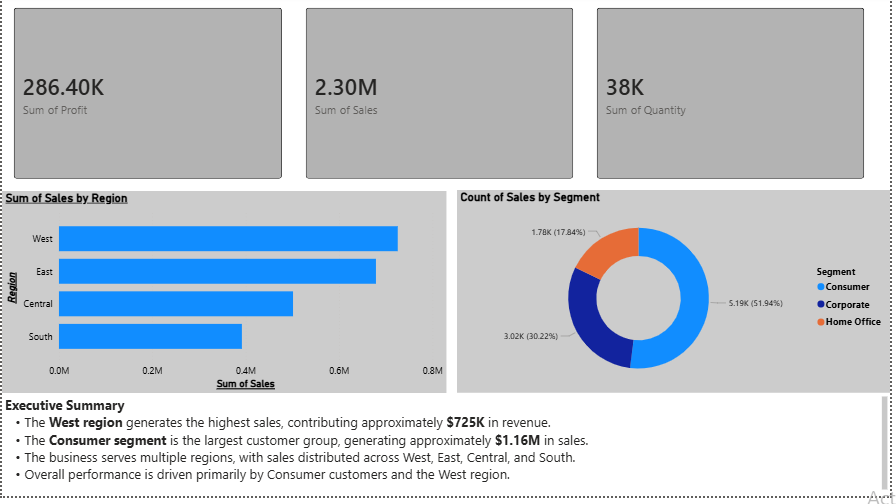

The page's visual inventory and layout, read from the dashboard file:
{"tool":"powerbi","page":{"name":"Page 1","canvas":[1280,720],"ordinal":0},"visuals":[{"type":"cardVisual","fields":{"Data":["Sum(SampleSuperstore.Sales)"]},"box":[419.9,0,419.9,280.5],"z":0},{"type":"cardVisual","fields":{"Data":["Sum(SampleSuperstore.Profit)"]},"box":[0,0,420.5,280.8],"z":1},{"type":"cardVisual","fields":{"Data":["Sum(SampleSuperstore.Quantity)"]},"box":[839.9,0,419.9,280.5],"z":2},{"type":"clusteredBarChart","fields":{"Category":["SampleSuperstore.Region"],"Y":["Sum(SampleSuperstore.Sales)"]},"box":[0,280.5,640,290.6],"z":3},{"type":"donutChart","fields":{"Y":["CountNonNull(SampleSuperstore.Sales)"],"Category":["SampleSuperstore.Segment"]},"box":[655.2,279.4,625,292.3],"z":4},{"type":"textbox","box":[0,571.7,1280.2,148.3],"z":5}]}

Visuals, with their boxes in screenshot pixels (x1, y1, x2, y2), scaled from the page's 1280x720 canvas onto the 896x504 screenshot:
cardVisual - Sum(SampleSuperstore.Sales): 294:0:588:196
cardVisual - Sum(SampleSuperstore.Profit): 0:0:294:197
cardVisual - Sum(SampleSuperstore.Quantity): 588:0:882:196
clusteredBarChart - SampleSuperstore.Region x Sum(SampleSuperstore.Sales): 0:196:448:400
donutChart - CountNonNull(SampleSuperstore.Sales) x SampleSuperstore.Segment: 459:196:895:400
textbox: 0:400:895:503
